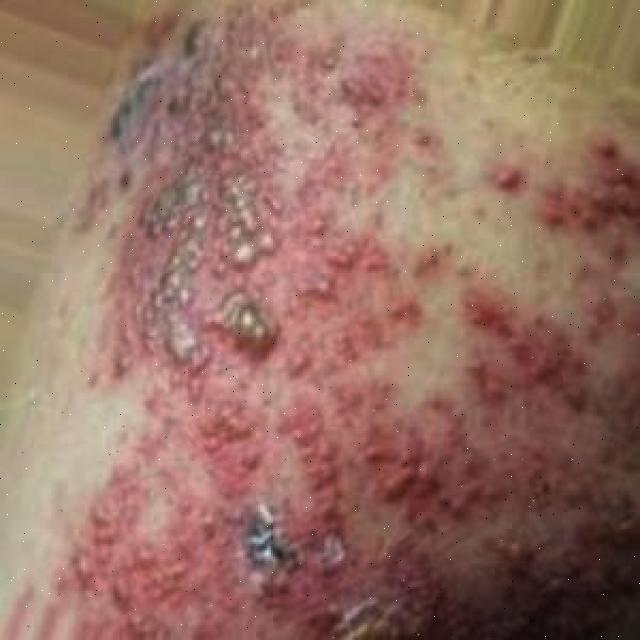Shingles: (73, 5, 640, 640)
